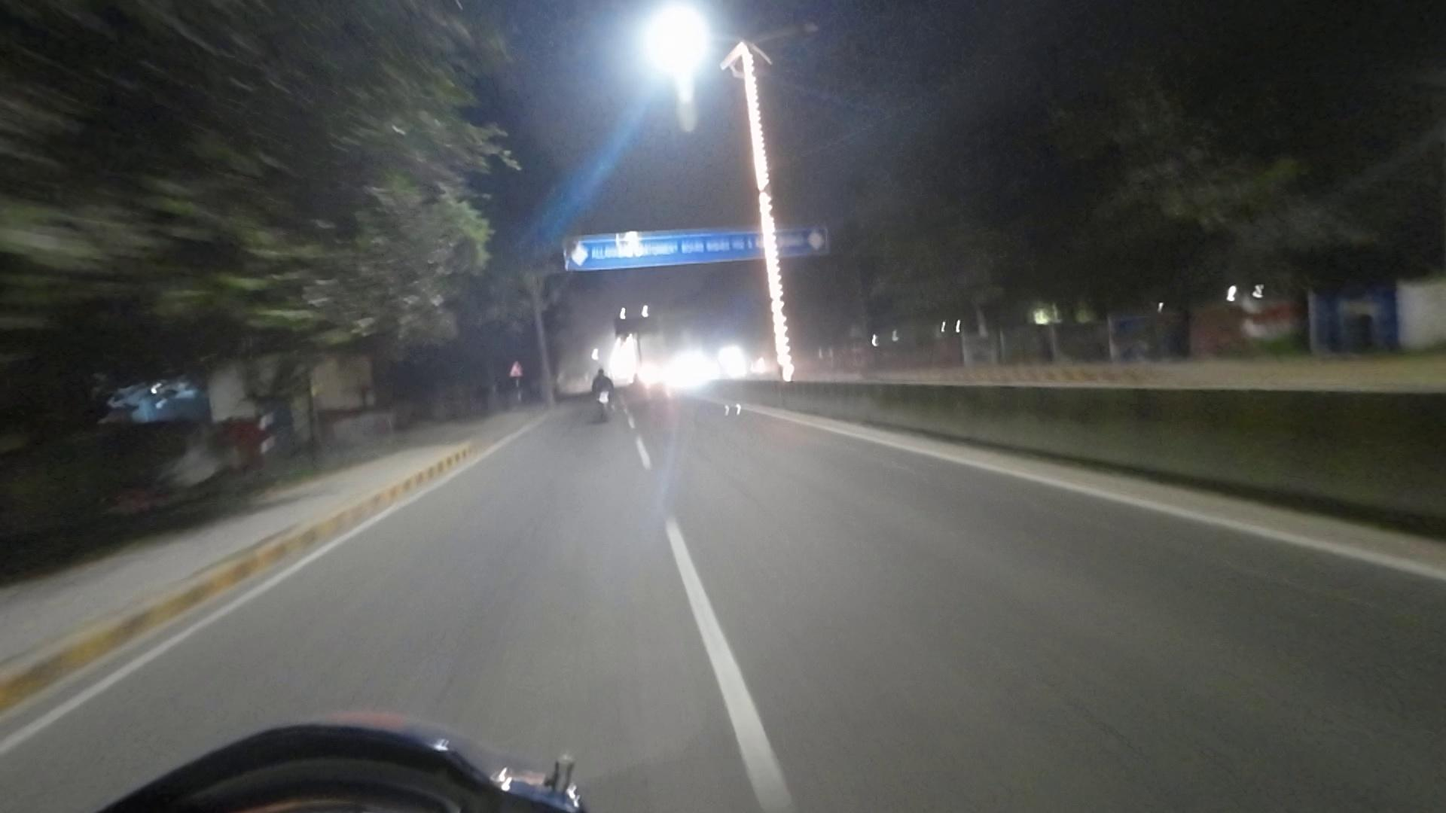streetlight: (755, 18, 823, 46)
